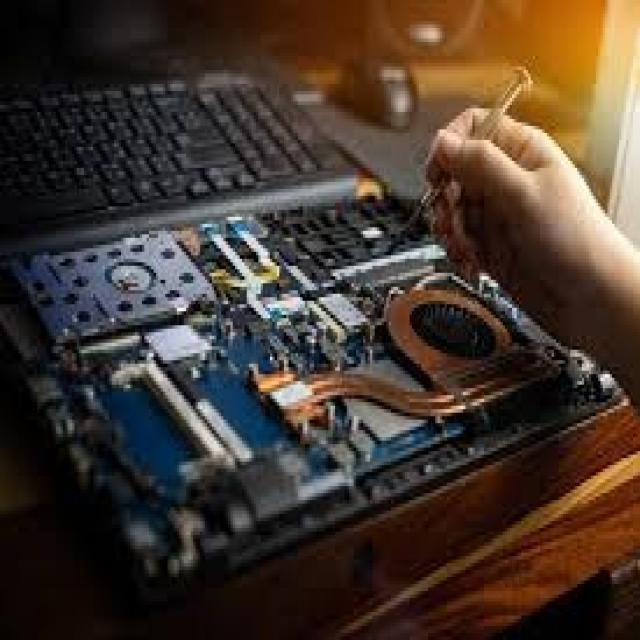screwdriver: (388, 58, 538, 264)
